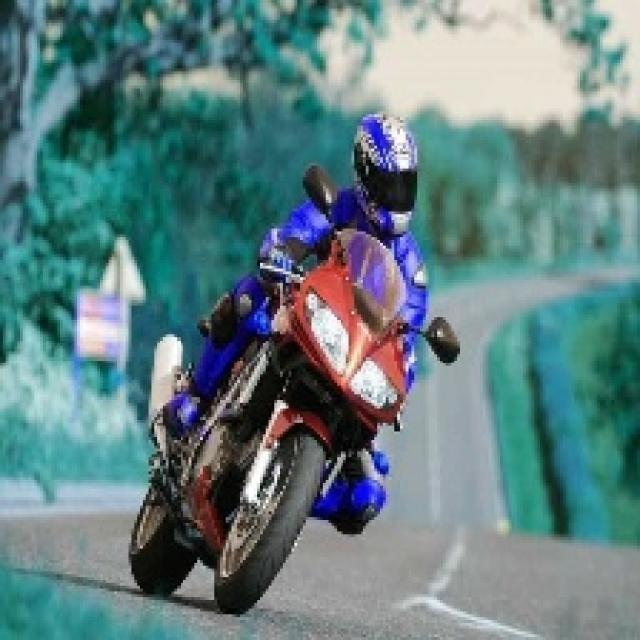Motorcycle: (147, 198, 395, 616)
